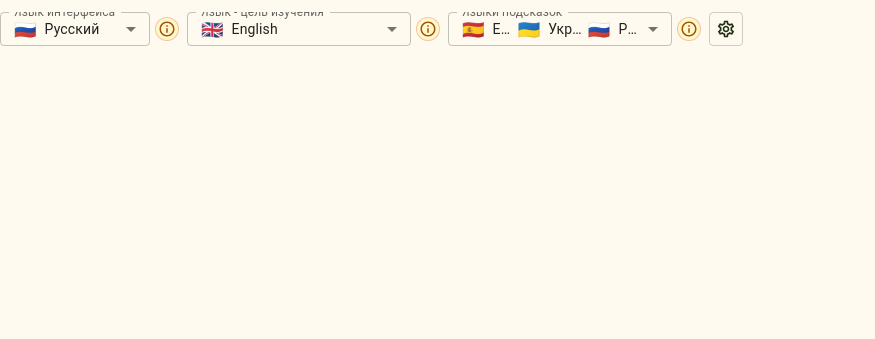
Test: LanguageSelectors › explains the header language selectors with readable info tooltips
This screenshot has width=875, height=339.
Hover over the button with test id "language_selectors__interface_language_info_button": {"x": 167, "y": 29} [155,17,179,41]
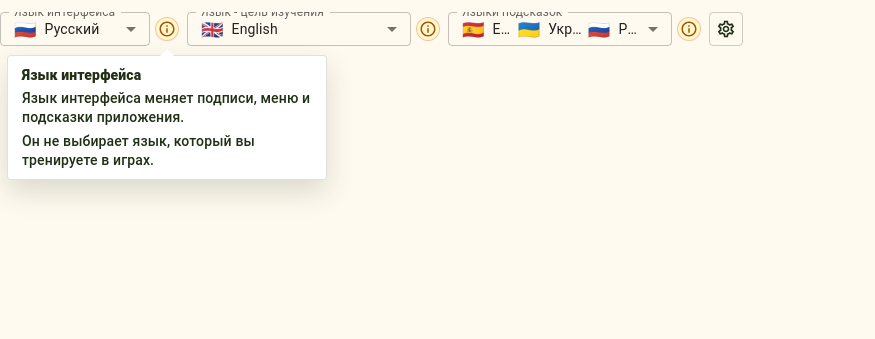
expect the text with test id "language_selectors__interface_language_info_tooltip_title" reads "Язык интерфейса": met, box [22,67,141,83]
expect the element with test id "language_selectors__interface_language_info_tooltip" shows "Язык интерфейса меняет подписи, меню и подсказки приложения.": met, box [22,90,310,125]
Move the pointer off the button with test id "language_selectors__interface_language_info_button", box [155,17,179,41]
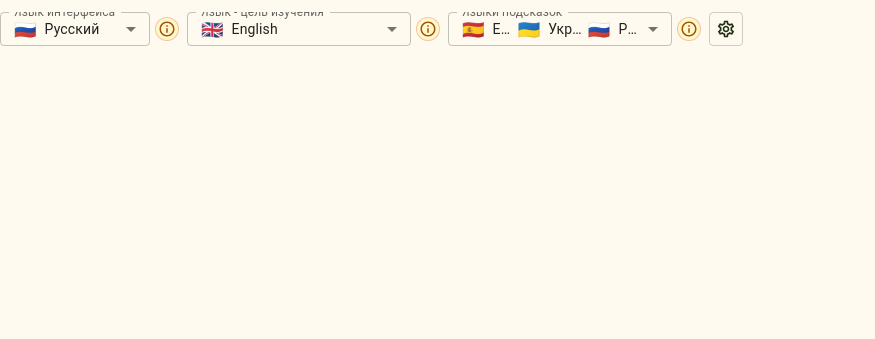
Hover over the button with test id "language_selectors__target_language_info_button": {"x": 428, "y": 29} [416,17,440,41]
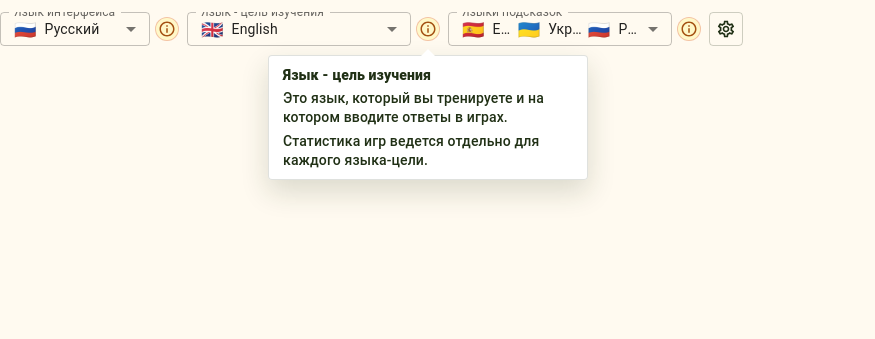
expect the text with test id "language_selectors__target_language_info_tooltip_title" reads "Язык - цель изучения": met, box [283,67,431,83]
expect the element with test id "language_selectors__target_language_info_tooltip" shows "Это язык, который вы тренируете и на котором вводите ответы в играх.": met, box [283,90,544,125]
Move the pointer off the button with test id "language_selectors__target_language_info_button", box [416,17,440,41]
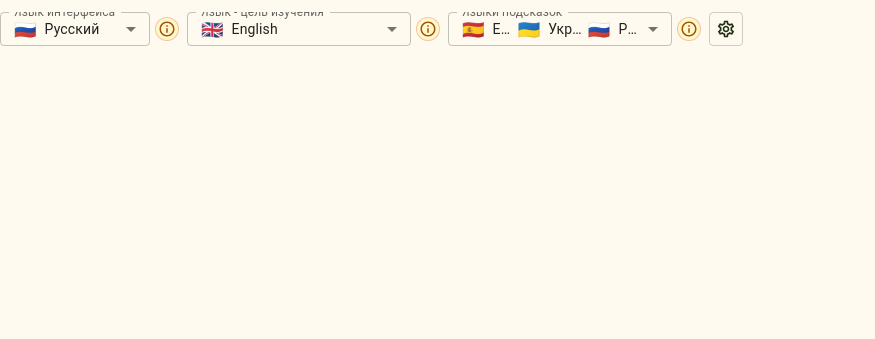
Hover over the button with test id "language_selectors__companion_languages_info_button": {"x": 689, "y": 29} [677,17,701,41]
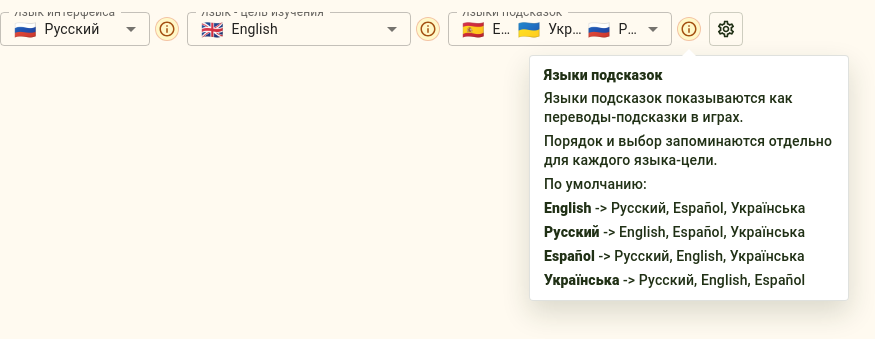
expect the text with test id "language_selectors__companion_languages_info_tooltip_title" reads "Языки подсказок": met, box [544,67,663,83]
expect the text with test id "language_selectors__companion_languages_info_tooltip_line__0" reads "Языки подсказок показываются как переводы-подсказки в играх.": met, box [544,90,793,125]
expect the text with test id "language_selectors__companion_languages_info_tooltip_line__2" reads "По умолчанию:": met, box [544,176,647,192]
